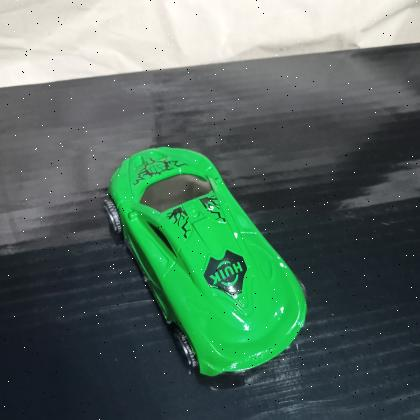Car: (107, 147, 308, 379)
